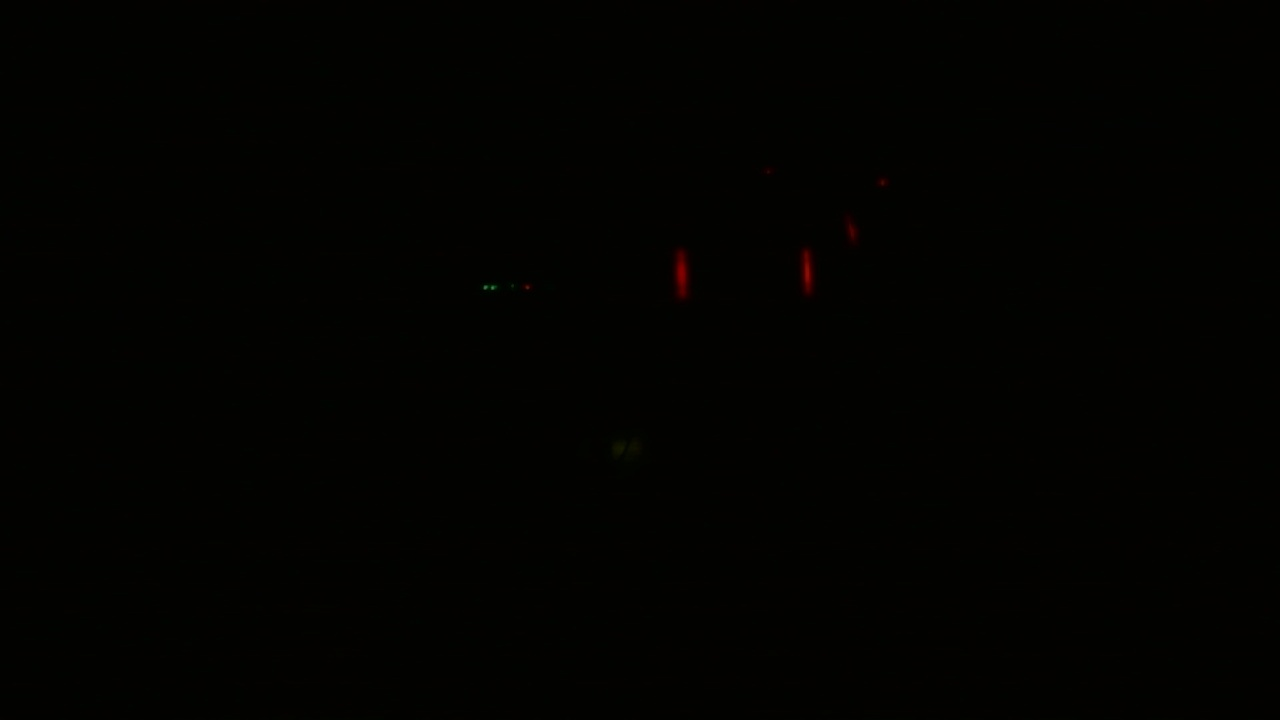pair1: (670, 240, 818, 302)
